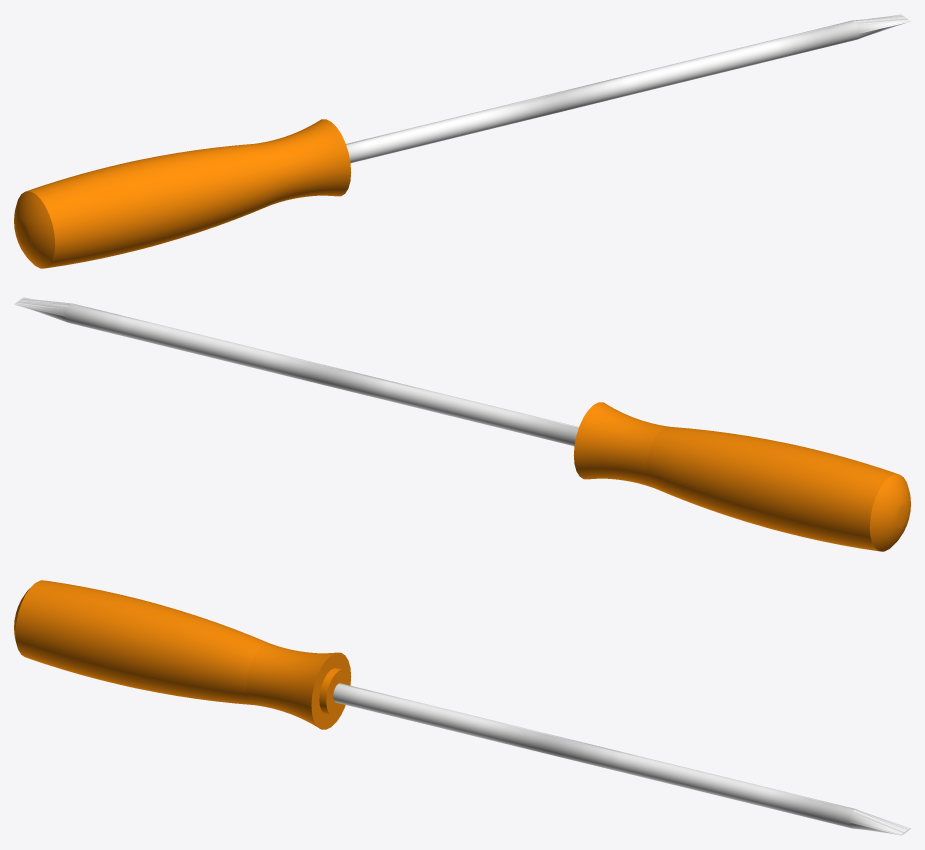
Rendered from screwdriver.dae.
3 renders of one model, top to bottom at view 1: azimuth 30°, elevation 25°; view 2: azimuth 150°, elevation 25°; view 3: azimuth 330°, elevation 25°, orthographic.
Parts seen in each view (by area): view 1: SketchUp (×2); view 2: SketchUp (×2); view 3: SketchUp (×3).
Boxes of the visible parts, x1,y1,x2,y2 form: SketchUp (×2): (14,17,910,268); SketchUp (×2): (19,297,910,551); SketchUp (×3): (14,580,910,835).
Size of the model in its own units: 10.11 by 0.8706 by 0.8706.
Materials: 2 (1 with a texture image).
